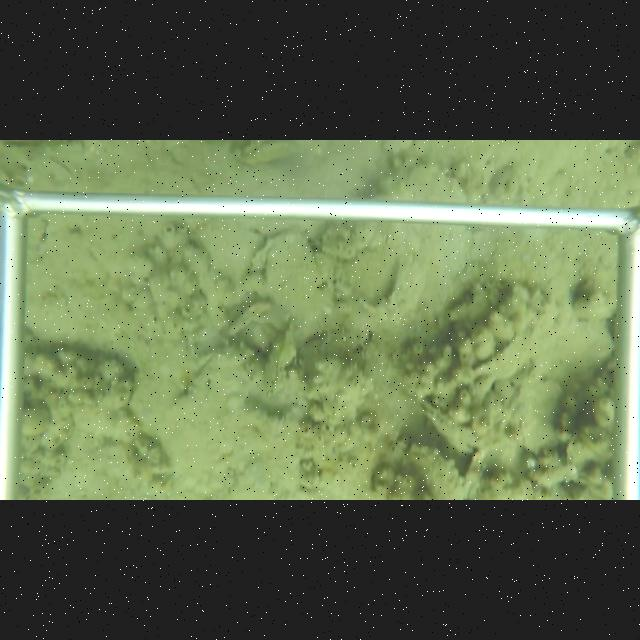Oyster-Closed: (264, 316, 298, 396)
